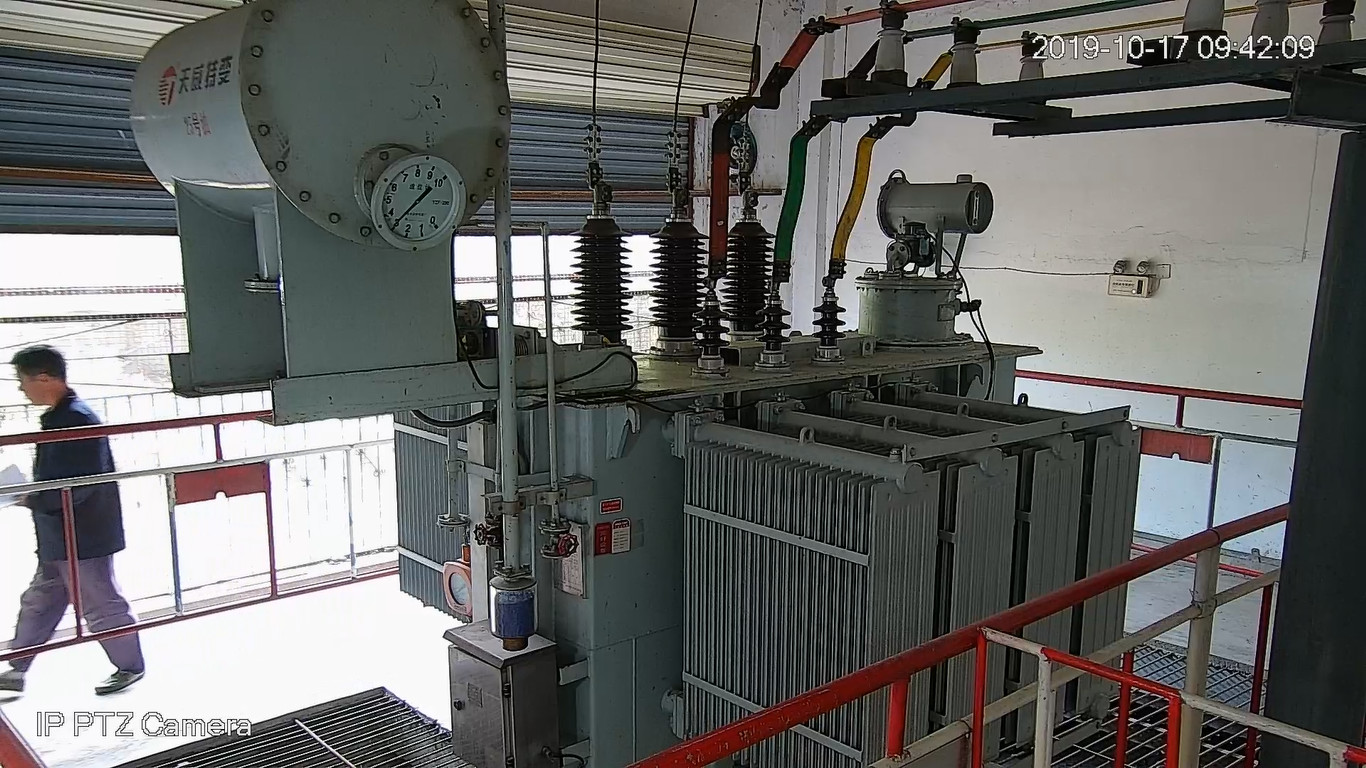helmet: (3, 337, 68, 406)
